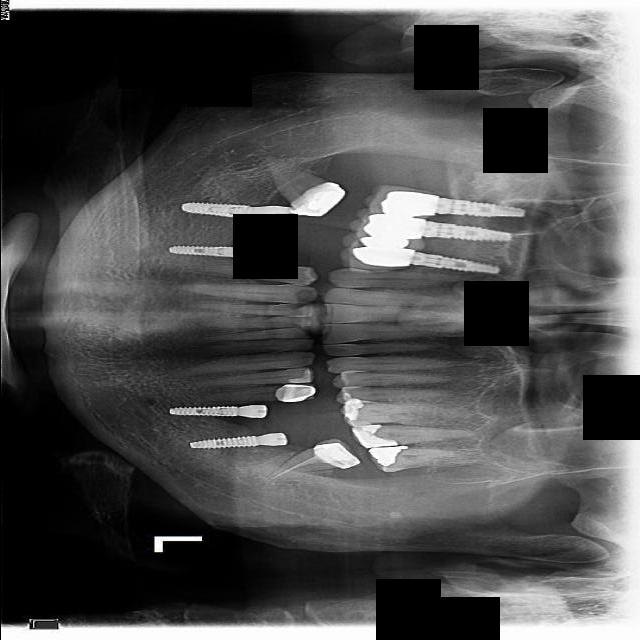55: (180, 196, 294, 223), (411, 250, 498, 281), (425, 221, 511, 246), (191, 432, 287, 453), (435, 197, 528, 218), (168, 241, 257, 260), (168, 403, 268, 418)
74: (267, 453, 326, 480)
NucleOSS Implant: (368, 445, 410, 468)
Straumann Implant: (351, 425, 397, 449), (338, 395, 363, 422), (288, 367, 316, 391), (341, 393, 356, 403)
Zimmer Implant: (285, 176, 351, 225), (364, 184, 440, 220), (347, 207, 423, 242), (342, 246, 414, 274), (311, 436, 360, 473), (343, 232, 425, 252), (273, 382, 317, 404)
